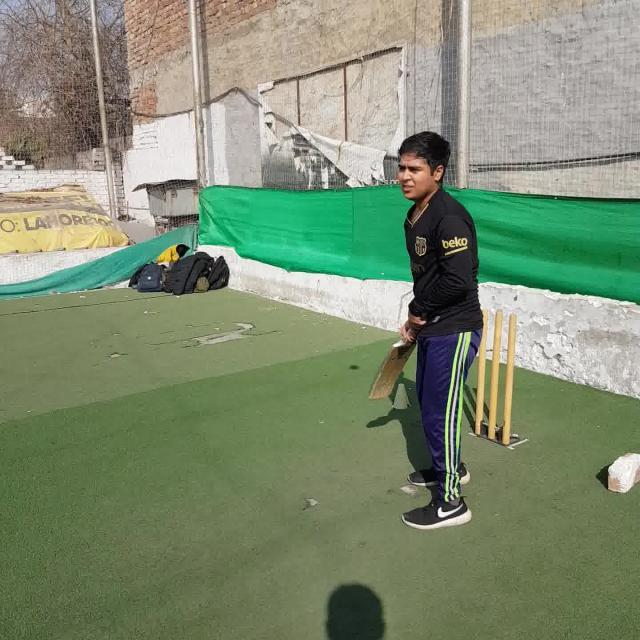bat: (369, 314, 425, 399)
